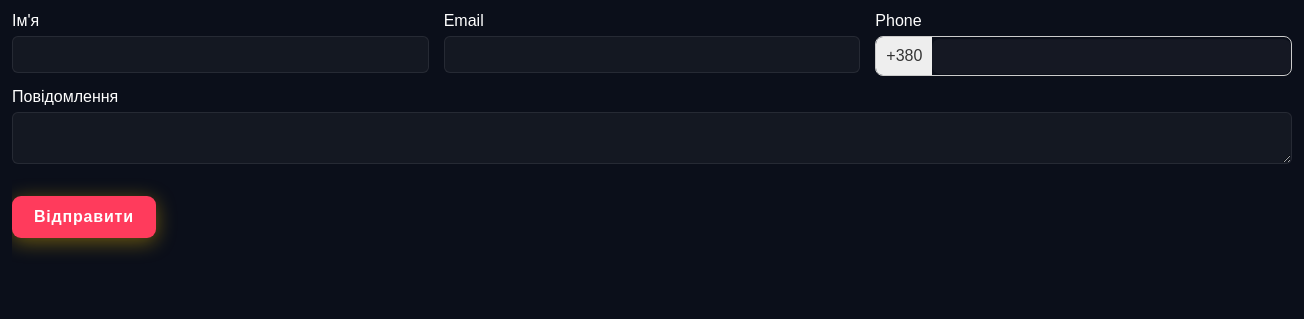
Test case: ContactForm › Phone validation should work
Type "12" into the field labelled "Phone" at {"x": 1112, "y": 56}, box [932,38,1291,74]
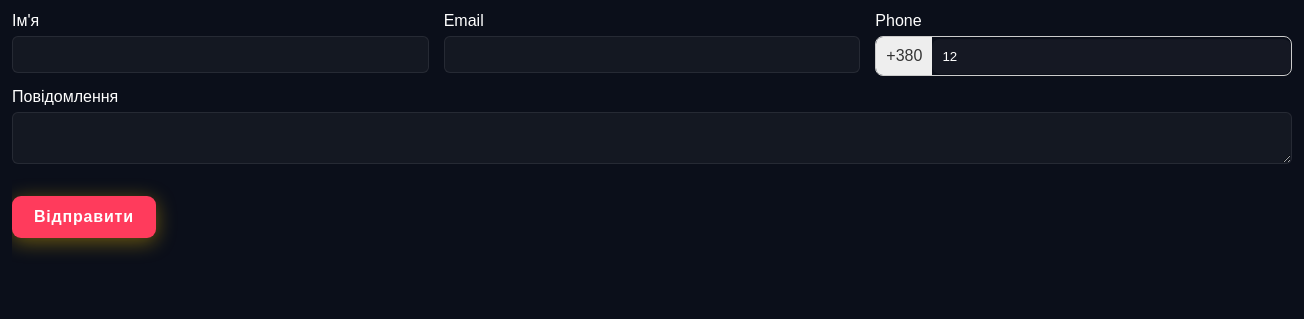
Leave the field labelled "Phone", box [932,38,1291,74]
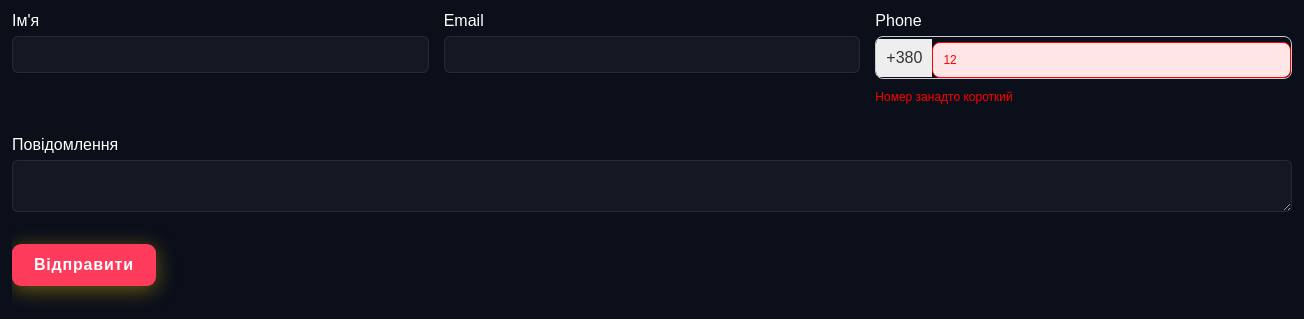
Check: the text "Номер занадто короткий" is shown, box [875,90,1013,104]
